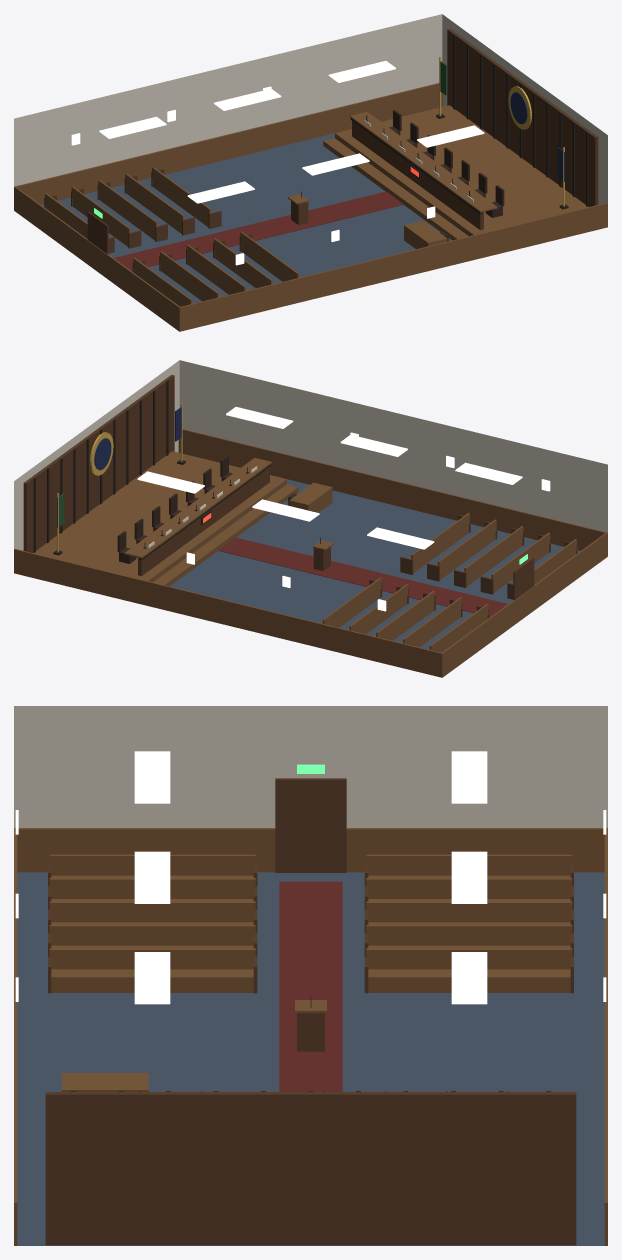
Rendered from set_chamber.glb.
3 views of the same model, one above another, from view 1: azimuth 30°, elevation 25°; view 2: azimuth 150°, elevation 25°; view 3: azimuth 270°, elevation 25° (orthographic). The views are drawn at different scales.
Parts seen in each view (by area): view 1: shell, wains.001, floor_dais, wains, backpanel, wains.002, floor_aisle, desk_top, desk_front, floor_dais_step, clerk, bench_b.003 (+20 smaller); view 2: shell, wains, floor_dais, wains.001, backpanel, wains.002, floor_aisle, desk_top, desk_front, floor_dais_step, clerk, bench_b.002 (+20 smaller); view 3: shell, backpanel, wains.002, floor_aisle, door, bench_b.004, bench_b.005, bench_b.002, bench_b.003, bench_s, bench_s.001, bench_b (+17 smaller).
Boxes of the visible parts, x1,y1,x2,y2 form: shell: [14, 14, 607, 302]; wains.001: [178, 203, 607, 331]; floor_dais: [335, 105, 588, 236]; wains: [14, 83, 443, 210]; backpanel: [447, 28, 598, 206]; wains.002: [15, 186, 180, 331]; floor_aisle: [114, 191, 403, 271]; desk_top: [350, 112, 497, 212]; desk_front: [352, 121, 483, 230]; floor_dais_step: [323, 138, 468, 240]; clerk: [404, 220, 447, 249]; bench_b.003: [125, 173, 184, 225]; shell: [14, 360, 607, 648]; wains: [14, 549, 443, 677]; floor_dais: [33, 451, 286, 582]; wains.001: [178, 429, 607, 556]; backpanel: [23, 374, 174, 552]; wains.002: [441, 532, 606, 677]; floor_aisle: [218, 537, 507, 617]; desk_top: [124, 458, 271, 558]; desk_front: [138, 467, 269, 576]; floor_dais_step: [153, 484, 298, 586]; clerk: [289, 482, 332, 512]; bench_b.002: [437, 519, 496, 571]; shell: [14, 706, 607, 1245]; backpanel: [45, 1092, 576, 1245]; wains.002: [17, 828, 604, 872]; floor_aisle: [279, 881, 342, 1091]; door: [275, 778, 346, 872]; bench_b.004: [49, 901, 255, 922]; bench_b.005: [366, 901, 572, 922]; bench_b.002: [49, 925, 255, 945]; bench_b.003: [366, 925, 572, 945]; bench_s: [51, 969, 253, 992]; bench_s.001: [368, 969, 570, 992]; bench_b: [49, 948, 255, 969].
Size of the model in its own units: 224 by 46 by 150.
